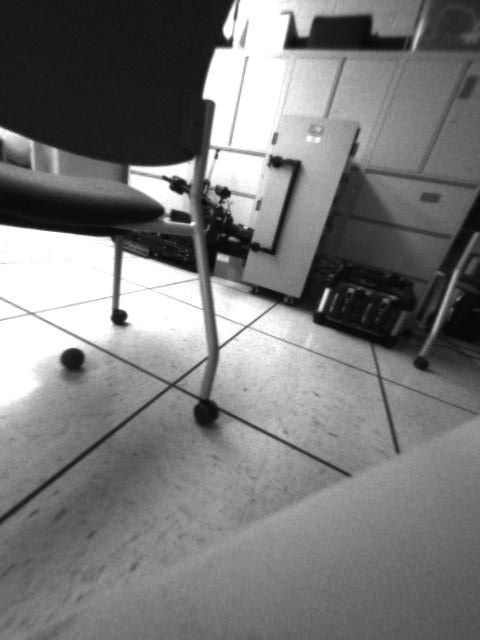dogtoy: (56, 342, 95, 380)
